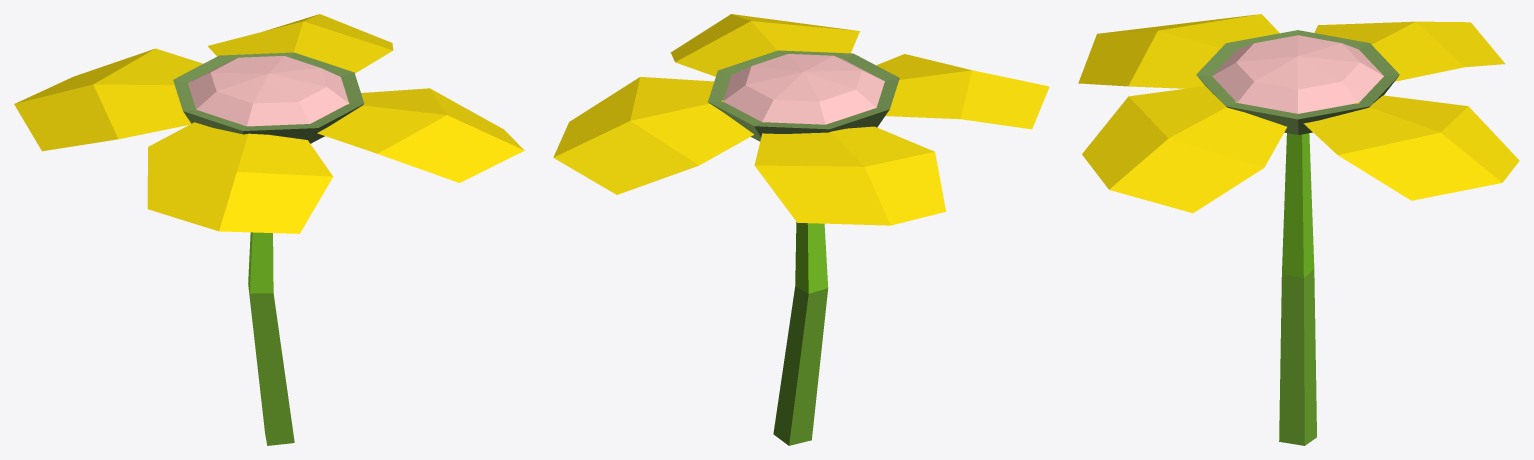
File: cinco_llagas.fbx
The picture shows the model from 3 angles, left to right: view 1: azimuth 30°, elevation 25°; view 2: azimuth 150°, elevation 25°; view 3: azimuth 270°, elevation 25°; orthographic projection. The views are drawn at different scales.
Parts seen in each view (by area): view 1: FlowerYellow; view 2: FlowerYellow; view 3: FlowerYellow.
Part boxes in pixels (x1,y1,x2,y2): FlowerYellow: (14, 14, 524, 445); FlowerYellow: (553, 14, 1049, 445); FlowerYellow: (1078, 14, 1519, 445).
Size of the model in its own units: 35.51 by 33.98 by 35.85.
Materials: 1 (1 with a texture image).
